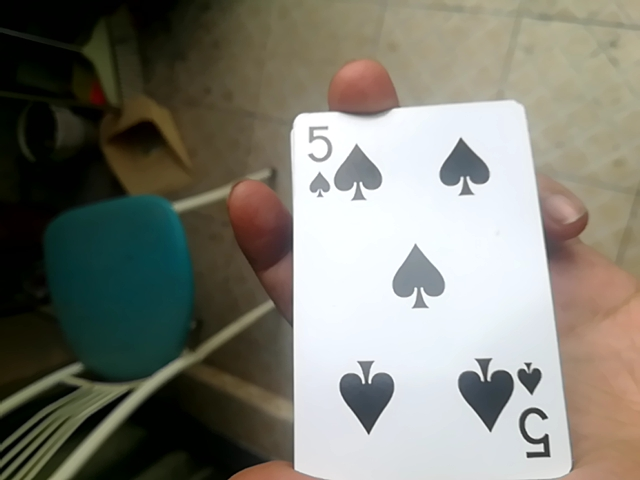ht 5: (291, 97, 568, 478)
